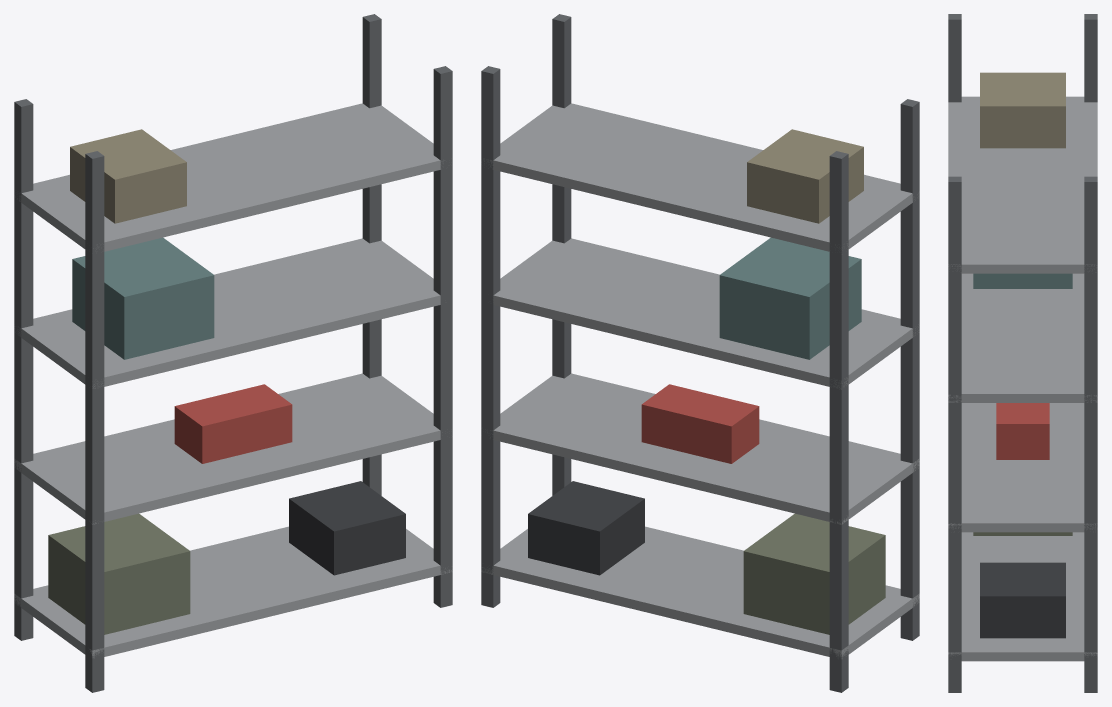
File: supply_shelf_flat.glb
The picture shows the model from 3 angles, left to right: view 1: azimuth 30°, elevation 25°; view 2: azimuth 150°, elevation 25°; view 3: azimuth 270°, elevation 25°; orthographic projection. The views are drawn at different scales.
Parts seen in each view (by area): view 1: supply_shelf_base; view 2: supply_shelf_base; view 3: supply_shelf_base.
Boxes of the visible parts, x1,y1,x2,y2 form: supply_shelf_base: (14,14,452,692); supply_shelf_base: (481,14,919,692); supply_shelf_base: (948,14,1097,692).
Size of the model in its own units: 0.3 by 0.425 by 0.1125.
